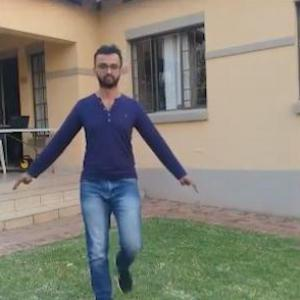land: (12, 33, 210, 299)
